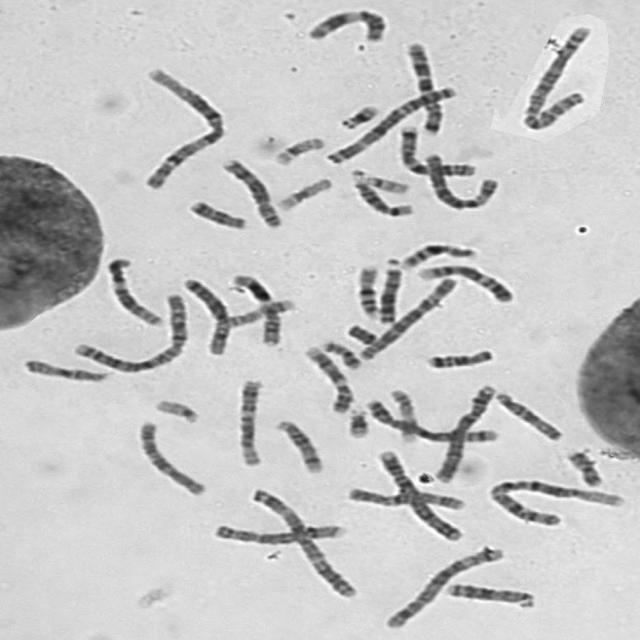A1: (133, 62, 230, 190), (480, 473, 628, 528)
A2: (66, 288, 190, 374), (514, 20, 596, 132)
A3: (242, 481, 360, 599), (319, 80, 458, 164)
B4: (368, 444, 465, 543), (426, 378, 499, 484)
B5: (376, 541, 507, 630), (358, 394, 500, 444)
C10: (130, 414, 208, 497), (338, 481, 469, 511)
C11: (223, 268, 284, 346), (299, 3, 389, 44)
C12: (98, 252, 166, 328), (228, 374, 265, 468)
C6: (352, 272, 459, 362), (417, 148, 501, 211)
C7: (391, 119, 480, 178), (398, 35, 447, 136)
C8: (212, 153, 286, 230), (204, 516, 350, 546)
C9: (409, 258, 516, 304), (297, 340, 355, 414)
D13: (439, 576, 537, 610), (372, 252, 404, 324)
D14: (344, 165, 417, 218), (266, 414, 326, 474)
D15: (487, 385, 566, 442), (15, 352, 112, 383)
E16: (392, 238, 480, 270), (347, 260, 382, 318)
E17: (219, 294, 298, 328), (382, 382, 420, 442)
E18: (180, 194, 248, 230), (419, 343, 496, 370)
F19: (270, 172, 335, 212), (265, 131, 327, 167)
F20: (558, 444, 606, 488), (314, 336, 363, 370)
G21: (332, 98, 383, 130), (340, 401, 372, 439)
G22: (345, 168, 412, 195), (148, 394, 201, 424)
X: (176, 272, 233, 357)
Y: (339, 318, 380, 345)
